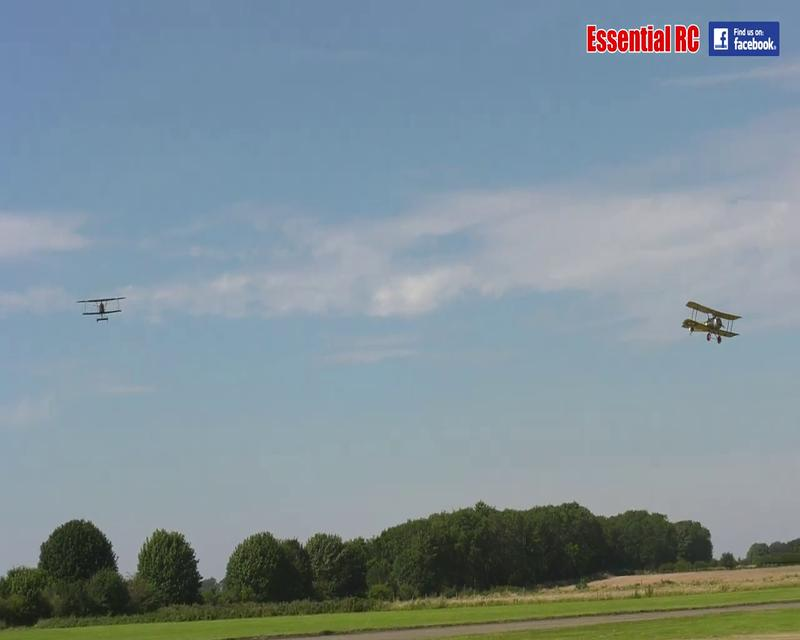UAV: (585, 22, 700, 54), (680, 296, 745, 344), (76, 296, 124, 324)
